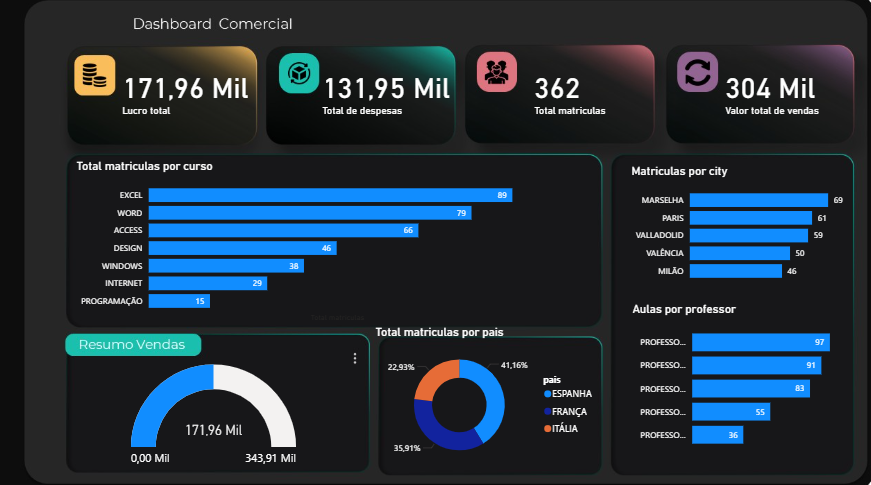

What the dashboard file says about the page in this screenshot:
{"tool":"powerbi","page":{"name":"Dashboard","canvas":[1280,720],"ordinal":0},"visuals":[{"type":"cardVisual","fields":{"Data":["data_base_comercial.Total matriculas"]},"box":[759.3,73.9,198.2,146.1],"z":0},{"type":"cardVisual","fields":{"Data":["data_base_comercial.Lucro_total"]},"box":[164.9,46.2,405.8,201.2],"z":1000},{"type":"cardVisual","fields":{"Data":["data_base_comercial.Total de despesas"]},"box":[453.6,61,259,171.5],"z":2000},{"type":"cardVisual","fields":{"Data":["data_base_comercial.Valor total de vendas"]},"box":[1034.2,77.5,245.8,138.6],"z":3000},{"type":"barChart","title":"Matriculas por city","fields":{"Category":["data_base_comercial.cidade"],"Y":["data_base_comercial.Total matriculas"]},"box":[923.7,247.4,315.1,179.8],"z":3001},{"type":"barChart","fields":{"Category":["data_base_comercial.curso"],"Y":["data_base_comercial.Total matriculas"]},"box":[123.8,240.5,658.1,239],"z":3002},{"type":"gauge","fields":{"Y":["data_base_comercial.Lucro_total"]},"box":[148.3,531.4,355.7,159.8],"z":3003},{"type":"barChart","title":"Aulas por professor","fields":{"Category":["data_base_comercial.professor"],"Y":["CountNonNull(data_base_comercial.id)"]},"box":[924.5,446.4,313.9,223.2],"z":3004},{"type":"donutChart","fields":{"Category":["data_base_comercial.pais"],"Y":["data_base_comercial.Total matriculas"]},"box":[554.2,480,331.5,211.1],"z":3005}]}

Visuals, with their boxes in screenshot pixels (x1, y1, x2, y2), scaled from the page's 1280x720 canvas onto the 871x485 screenshot:
cardVisual - data_base_comercial.Total matriculas: (517, 50, 652, 148)
cardVisual - data_base_comercial.Lucro_total: (112, 31, 388, 167)
cardVisual - data_base_comercial.Total de despesas: (309, 41, 485, 157)
cardVisual - data_base_comercial.Valor total de vendas: (704, 52, 870, 146)
"Matriculas por city" barChart: (629, 167, 843, 288)
barChart - data_base_comercial.curso x data_base_comercial.Total matriculas: (84, 162, 532, 323)
gauge - data_base_comercial.Lucro_total: (101, 358, 343, 466)
"Aulas por professor" barChart: (629, 301, 843, 451)
donutChart - data_base_comercial.pais x data_base_comercial.Total matriculas: (377, 323, 603, 466)
